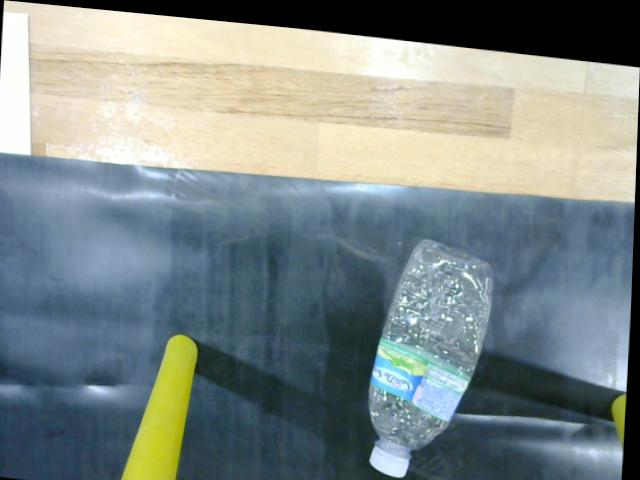bottle: (356, 216, 508, 478)
